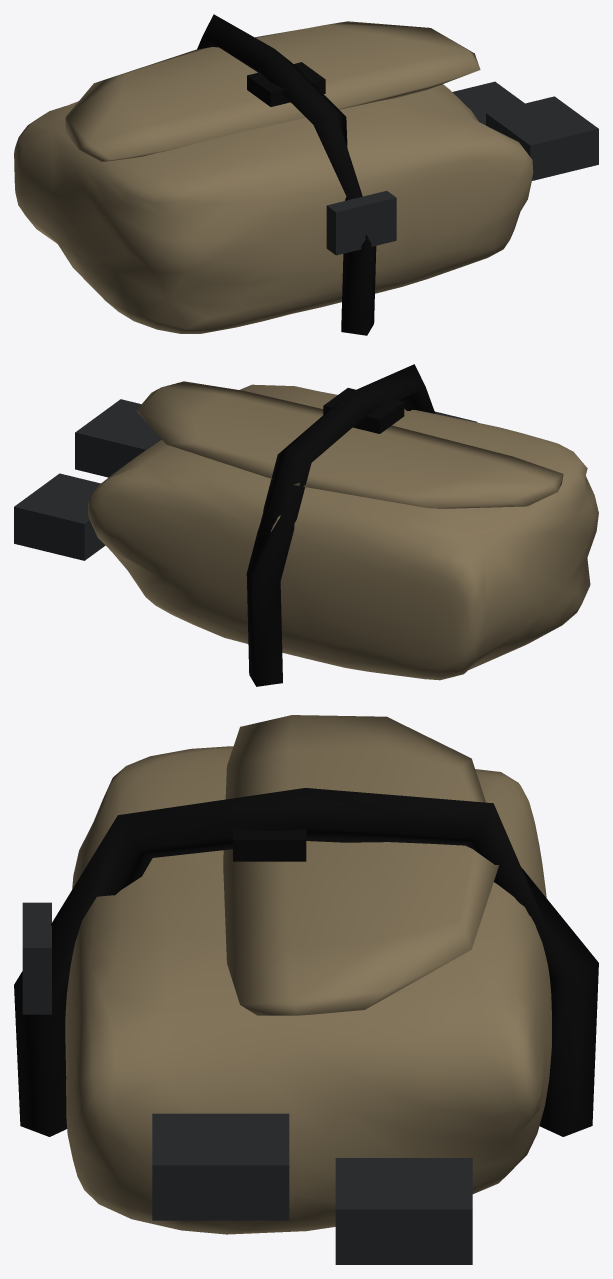
File: scavenger_pack.gltf
The picture shows the model from 3 angles, top to bottom: view 1: azimuth 30°, elevation 25°; view 2: azimuth 150°, elevation 25°; view 3: azimuth 270°, elevation 25°; orthographic projection. The views are drawn at different scales.
Visible parts, largest first — view 1: scavenger_pack; view 2: scavenger_pack; view 3: scavenger_pack.
Part boxes in pixels (left/top/right/bottom): scavenger_pack: left=14, top=14, right=598, bottom=335; scavenger_pack: left=14, top=364, right=598, bottom=686; scavenger_pack: left=14, top=715, right=598, bottom=1264.
Size of the model in its own units: 0.344 by 0.1526 by 0.2392.
